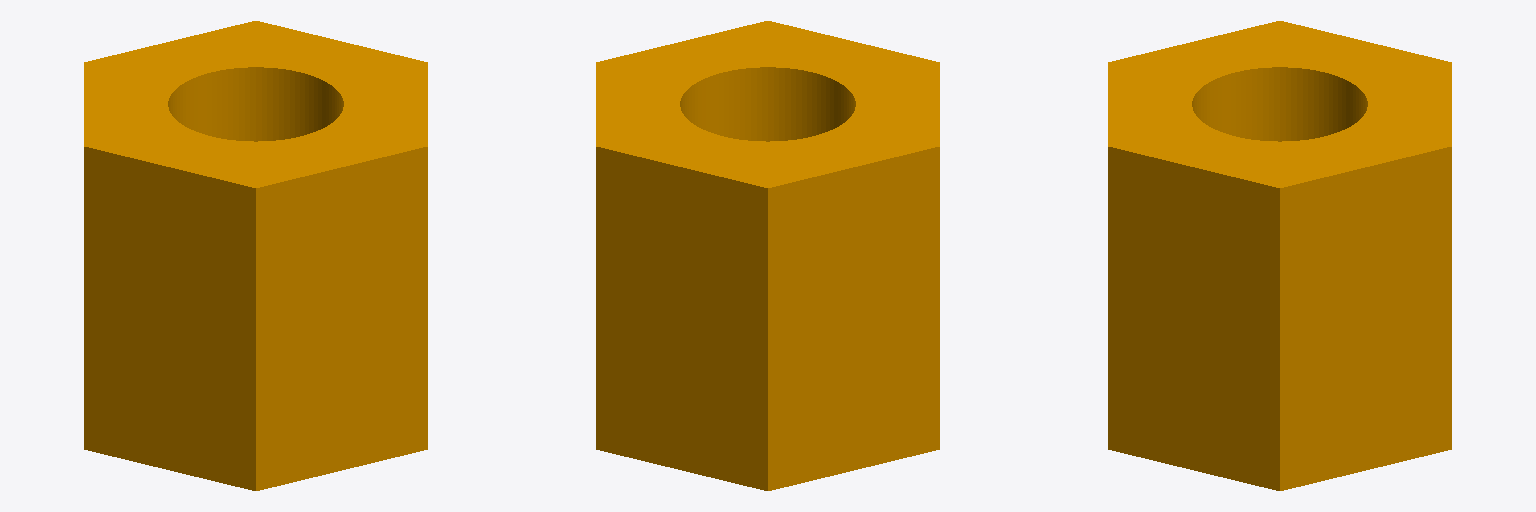
robot.urdf — coarse_long_hex_nut:
<?xml version='1.0' encoding='utf-8'?>
<robot name="coarse_long_hex_nut">
  <link name="body">
    <inertial>
      <origin xyz="-5.171136142987504e-19 7.9848737146478825e-19 0.03961034318940349" />
      <mass value="0.25" />
      <inertia ixx="0.0002773584008785629" iyy="0.00027735840087856283" izz="0.0002873818134457217" ixy="-5.4551818227790585e-21" ixz="1.5905210369773787e-20" iyz="9.686641064724586e-08" />
    </inertial>
    <collision>
      <geometry>
        <mesh filename="part_00.obj" />
      </geometry>
    </collision>
    <collision>
      <geometry>
        <mesh filename="part_01.obj" />
      </geometry>
    </collision>
    <collision>
      <geometry>
        <mesh filename="part_02.obj" />
      </geometry>
    </collision>
    <collision>
      <geometry>
        <mesh filename="part_03.obj" />
      </geometry>
    </collision>
    <collision>
      <geometry>
        <mesh filename="part_04.obj" />
      </geometry>
    </collision>
    <collision>
      <geometry>
        <mesh filename="part_05.obj" />
      </geometry>
    </collision>
    <collision>
      <geometry>
        <mesh filename="part_06.obj" />
      </geometry>
    </collision>
    <collision>
      <geometry>
        <mesh filename="part_07.obj" />
      </geometry>
    </collision>
    <collision>
      <geometry>
        <mesh filename="part_08.obj" />
      </geometry>
    </collision>
    <collision>
      <geometry>
        <mesh filename="part_09.obj" />
      </geometry>
    </collision>
    <collision>
      <geometry>
        <mesh filename="part_10.obj" />
      </geometry>
    </collision>
    <collision>
      <geometry>
        <mesh filename="part_11.obj" />
      </geometry>
    </collision>
    <collision>
      <geometry>
        <mesh filename="part_12.obj" />
      </geometry>
    </collision>
    <collision>
      <geometry>
        <mesh filename="part_13.obj" />
      </geometry>
    </collision>
    <collision>
      <geometry>
        <mesh filename="part_14.obj" />
      </geometry>
    </collision>
    <collision>
      <geometry>
        <mesh filename="part_15.obj" />
      </geometry>
    </collision>
    <collision>
      <geometry>
        <mesh filename="part_16.obj" />
      </geometry>
    </collision>
    <collision>
      <geometry>
        <mesh filename="part_17.obj" />
      </geometry>
    </collision>
    <collision>
      <geometry>
        <mesh filename="part_18.obj" />
      </geometry>
    </collision>
    <collision>
      <geometry>
        <mesh filename="part_19.obj" />
      </geometry>
    </collision>
    <collision>
      <geometry>
        <mesh filename="part_20.obj" />
      </geometry>
    </collision>
    <collision>
      <geometry>
        <mesh filename="part_21.obj" />
      </geometry>
    </collision>
    <collision>
      <geometry>
        <mesh filename="part_22.obj" />
      </geometry>
    </collision>
    <collision>
      <geometry>
        <mesh filename="part_23.obj" />
      </geometry>
    </collision>
    <collision>
      <geometry>
        <mesh filename="part_24.obj" />
      </geometry>
    </collision>
    <collision>
      <geometry>
        <mesh filename="part_25.obj" />
      </geometry>
    </collision>
    <collision>
      <geometry>
        <mesh filename="part_26.obj" />
      </geometry>
    </collision>
    <collision>
      <geometry>
        <mesh filename="part_27.obj" />
      </geometry>
    </collision>
    <collision>
      <geometry>
        <mesh filename="part_28.obj" />
      </geometry>
    </collision>
    <collision>
      <geometry>
        <mesh filename="part_29.obj" />
      </geometry>
    </collision>
    <collision>
      <geometry>
        <mesh filename="part_30.obj" />
      </geometry>
    </collision>
    <collision>
      <geometry>
        <mesh filename="part_31.obj" />
      </geometry>
    </collision>
    <collision>
      <geometry>
        <mesh filename="part_32.obj" />
      </geometry>
    </collision>
    <collision>
      <geometry>
        <mesh filename="part_33.obj" />
      </geometry>
    </collision>
    <collision>
      <geometry>
        <mesh filename="part_34.obj" />
      </geometry>
    </collision>
    <collision>
      <geometry>
        <mesh filename="part_35.obj" />
      </geometry>
    </collision>
    <collision>
      <geometry>
        <mesh filename="part_36.obj" />
      </geometry>
    </collision>
    <collision>
      <geometry>
        <mesh filename="part_37.obj" />
      </geometry>
    </collision>
    <collision>
      <geometry>
        <mesh filename="part_38.obj" />
      </geometry>
    </collision>
    <collision>
      <geometry>
        <mesh filename="part_39.obj" />
      </geometry>
    </collision>
    <collision>
      <geometry>
        <mesh filename="part_40.obj" />
      </geometry>
    </collision>
    <collision>
      <geometry>
        <mesh filename="part_41.obj" />
      </geometry>
    </collision>
    <collision>
      <geometry>
        <mesh filename="part_42.obj" />
      </geometry>
    </collision>
    <collision>
      <geometry>
        <mesh filename="part_43.obj" />
      </geometry>
    </collision>
    <collision>
      <geometry>
        <mesh filename="part_44.obj" />
      </geometry>
    </collision>
    <collision>
      <geometry>
        <mesh filename="part_45.obj" />
      </geometry>
    </collision>
    <collision>
      <geometry>
        <mesh filename="part_46.obj" />
      </geometry>
    </collision>
    <collision>
      <geometry>
        <mesh filename="part_47.obj" />
      </geometry>
    </collision>
    <collision>
      <geometry>
        <mesh filename="part_48.obj" />
      </geometry>
    </collision>
    <collision>
      <geometry>
        <mesh filename="part_49.obj" />
      </geometry>
    </collision>
    <collision>
      <geometry>
        <mesh filename="part_50.obj" />
      </geometry>
    </collision>
    <collision>
      <geometry>
        <mesh filename="part_51.obj" />
      </geometry>
    </collision>
    <collision>
      <geometry>
        <mesh filename="part_52.obj" />
      </geometry>
    </collision>
    <collision>
      <geometry>
        <mesh filename="part_53.obj" />
      </geometry>
    </collision>
    <collision>
      <geometry>
        <mesh filename="part_54.obj" />
      </geometry>
    </collision>
    <collision>
      <geometry>
        <mesh filename="part_55.obj" />
      </geometry>
    </collision>
    <collision>
      <geometry>
        <mesh filename="part_56.obj" />
      </geometry>
    </collision>
    <collision>
      <geometry>
        <mesh filename="part_57.obj" />
      </geometry>
    </collision>
    <collision>
      <geometry>
        <mesh filename="part_58.obj" />
      </geometry>
    </collision>
    <collision>
      <geometry>
        <mesh filename="part_59.obj" />
      </geometry>
    </collision>
    <collision>
      <geometry>
        <mesh filename="part_60.obj" />
      </geometry>
    </collision>
    <collision>
      <geometry>
        <mesh filename="part_61.obj" />
      </geometry>
    </collision>
    <collision>
      <geometry>
        <mesh filename="part_62.obj" />
      </geometry>
    </collision>
    <collision>
      <geometry>
        <mesh filename="part_63.obj" />
      </geometry>
    </collision>
    <collision>
      <geometry>
        <mesh filename="part_64.obj" />
      </geometry>
    </collision>
    <collision>
      <geometry>
        <mesh filename="part_65.obj" />
      </geometry>
    </collision>
    <collision>
      <geometry>
        <mesh filename="part_66.obj" />
      </geometry>
    </collision>
    <collision>
      <geometry>
        <mesh filename="part_67.obj" />
      </geometry>
    </collision>
    <collision>
      <geometry>
        <mesh filename="part_68.obj" />
      </geometry>
    </collision>
    <collision>
      <geometry>
        <mesh filename="part_69.obj" />
      </geometry>
    </collision>
    <collision>
      <geometry>
        <mesh filename="part_70.obj" />
      </geometry>
    </collision>
    <collision>
      <geometry>
        <mesh filename="part_71.obj" />
      </geometry>
    </collision>
    <collision>
      <geometry>
        <mesh filename="part_72.obj" />
      </geometry>
    </collision>
    <collision>
      <geometry>
        <mesh filename="part_73.obj" />
      </geometry>
    </collision>
    <collision>
      <geometry>
        <mesh filename="part_74.obj" />
      </geometry>
    </collision>
    <collision>
      <geometry>
        <mesh filename="part_75.obj" />
      </geometry>
    </collision>
    <collision>
      <geometry>
        <mesh filename="part_76.obj" />
      </geometry>
    </collision>
    <collision>
      <geometry>
        <mesh filename="part_77.obj" />
      </geometry>
    </collision>
    <collision>
      <geometry>
        <mesh filename="part_78.obj" />
      </geometry>
    </collision>
    <collision>
      <geometry>
        <mesh filename="part_79.obj" />
      </geometry>
    </collision>
    <collision>
      <geometry>
        <mesh filename="part_80.obj" />
      </geometry>
    </collision>
    <collision>
      <geometry>
        <mesh filename="part_81.obj" />
      </geometry>
    </collision>
    <collision>
      <geometry>
        <mesh filename="part_82.obj" />
      </geometry>
    </collision>
    <collision>
      <geometry>
        <mesh filename="part_83.obj" />
      </geometry>
    </collision>
    <collision>
      <geometry>
        <mesh filename="part_84.obj" />
      </geometry>
    </collision>
    <collision>
      <geometry>
        <mesh filename="part_85.obj" />
      </geometry>
    </collision>
    <collision>
      <geometry>
        <mesh filename="part_86.obj" />
      </geometry>
    </collision>
    <collision>
      <geometry>
        <mesh filename="part_87.obj" />
      </geometry>
    </collision>
    <collision>
      <geometry>
        <mesh filename="part_88.obj" />
      </geometry>
    </collision>
    <collision>
      <geometry>
        <mesh filename="part_89.obj" />
      </geometry>
    </collision>
    <collision>
      <geometry>
        <mesh filename="part_90.obj" />
      </geometry>
    </collision>
    <collision>
      <geometry>
        <mesh filename="part_91.obj" />
      </geometry>
    </collision>
    <collision>
      <geometry>
        <mesh filename="part_92.obj" />
      </geometry>
    </collision>
    <collision>
      <geometry>
        <mesh filename="part_93.obj" />
      </geometry>
    </collision>
    <collision>
      <geometry>
        <mesh filename="part_94.obj" />
      </geometry>
    </collision>
    <collision>
      <geometry>
        <mesh filename="part_95.obj" />
      </geometry>
    </collision>
    <collision>
      <geometry>
        <mesh filename="part_96.obj" />
      </geometry>
    </collision>
    <collision>
      <geometry>
        <mesh filename="part_97.obj" />
      </geometry>
    </collision>
    <collision>
      <geometry>
        <mesh filename="part_98.obj" />
      </geometry>
    </collision>
    <collision>
      <geometry>
        <mesh filename="part_99.obj" />
      </geometry>
    </collision>
    <collision>
      <geometry>
        <mesh filename="part_100.obj" />
      </geometry>
    </collision>
    <collision>
      <geometry>
        <mesh filename="part_101.obj" />
      </geometry>
    </collision>
    <collision>
      <geometry>
        <mesh filename="part_102.obj" />
      </geometry>
    </collision>
    <collision>
      <geometry>
        <mesh filename="part_103.obj" />
      </geometry>
    </collision>
    <collision>
      <geometry>
        <mesh filename="part_104.obj" />
      </geometry>
    </collision>
    <collision>
      <geometry>
        <mesh filename="part_105.obj" />
      </geometry>
    </collision>
    <collision>
      <geometry>
        <mesh filename="part_106.obj" />
      </geometry>
    </collision>
    <collision>
      <geometry>
        <mesh filename="part_107.obj" />
      </geometry>
    </collision>
    <collision>
      <geometry>
        <mesh filename="part_108.obj" />
      </geometry>
    </collision>
    <collision>
      <geometry>
        <mesh filename="part_109.obj" />
      </geometry>
    </collision>
    <collision>
      <geometry>
        <mesh filename="part_110.obj" />
      </geometry>
    </collision>
    <collision>
      <geometry>
        <mesh filename="part_111.obj" />
      </geometry>
    </collision>
    <collision>
      <geometry>
        <mesh filename="part_112.obj" />
      </geometry>
    </collision>
    <collision>
      <geometry>
        <mesh filename="part_113.obj" />
      </geometry>
    </collision>
    <collision>
      <geometry>
        <mesh filename="part_114.obj" />
      </geometry>
    </collision>
    <collision>
      <geometry>
        <mesh filename="part_115.obj" />
      </geometry>
    </collision>
    <collision>
      <geometry>
        <mesh filename="part_116.obj" />
      </geometry>
    </collision>
    <collision>
      <geometry>
        <mesh filename="part_117.obj" />
      </geometry>
    </collision>
    <collision>
      <geometry>
        <mesh filename="part_118.obj" />
      </geometry>
    </collision>
    <collision>
      <geometry>
        <mesh filename="part_119.obj" />
      </geometry>
    </collision>
    <collision>
      <geometry>
        <mesh filename="part_120.obj" />
      </geometry>
    </collision>
    <collision>
      <geometry>
        <mesh filename="part_121.obj" />
      </geometry>
    </collision>
    <collision>
      <geometry>
        <mesh filename="part_122.obj" />
      </geometry>
    </collision>
    <collision>
      <geometry>
        <mesh filename="part_123.obj" />
      </geometry>
    </collision>
    <collision>
      <geometry>
        <mesh filename="part_124.obj" />
      </geometry>
    </collision>
    <collision>
      <geometry>
        <mesh filename="part_125.obj" />
      </geometry>
    </collision>
    <collision>
      <geometry>
        <mesh filename="part_126.obj" />
      </geometry>
    </collision>
    <collision>
      <geometry>
        <mesh filename="part_127.obj" />
      </geometry>
    </collision>
    <collision>
      <geometry>
        <mesh filename="part_128.obj" />
      </geometry>
    </collision>
    <collision>
      <geometry>
        <mesh filename="part_129.obj" />
      </geometry>
    </collision>
    <collision>
      <geometry>
        <mesh filename="part_130.obj" />
      </geometry>
    </collision>
    <collision>
      <geometry>
        <mesh filename="part_131.obj" />
      </geometry>
    </collision>
    <collision>
      <geometry>
        <mesh filename="part_132.obj" />
      </geometry>
    </collision>
    <collision>
      <geometry>
        <mesh filename="part_133.obj" />
      </geometry>
    </collision>
    <collision>
      <geometry>
        <mesh filename="part_134.obj" />
      </geometry>
    </collision>
    <collision>
      <geometry>
        <mesh filename="part_135.obj" />
      </geometry>
    </collision>
    <collision>
      <geometry>
        <mesh filename="part_136.obj" />
      </geometry>
    </collision>
    <collision>
      <geometry>
        <mesh filename="part_137.obj" />
      </geometry>
    </collision>
    <collision>
      <geometry>
        <mesh filename="part_138.obj" />
      </geometry>
    </collision>
    <collision>
      <geometry>
        <mesh filename="part_139.obj" />
      </geometry>
    </collision>
    <collision>
      <geometry>
        <mesh filename="part_140.obj" />
      </geometry>
    </collision>
    <collision>
      <geometry>
        <mesh filename="part_141.obj" />
      </geometry>
    </collision>
    <collision>
      <geometry>
        <mesh filename="part_142.obj" />
      </geometry>
    </collision>
    <collision>
      <geometry>
        <mesh filename="part_143.obj" />
      </geometry>
    </collision>
    <collision>
      <geometry>
        <mesh filename="part_144.obj" />
      </geometry>
    </collision>
    <collision>
      <geometry>
        <mesh filename="part_145.obj" />
      </geometry>
    </collision>
    <collision>
      <geometry>
        <mesh filename="part_146.obj" />
      </geometry>
    </collision>
    <collision>
      <geometry>
        <mesh filename="part_147.obj" />
      </geometry>
    </collision>
    <collision>
      <geometry>
        <mesh filename="part_148.obj" />
      </geometry>
    </collision>
    <collision>
      <geometry>
        <mesh filename="part_149.obj" />
      </geometry>
    </collision>
    <collision>
      <geometry>
        <mesh filename="part_150.obj" />
      </geometry>
    </collision>
    <collision>
      <geometry>
        <mesh filename="part_151.obj" />
      </geometry>
    </collision>
    <collision>
      <geometry>
        <mesh filename="part_152.obj" />
      </geometry>
    </collision>
    <collision>
      <geometry>
        <mesh filename="part_153.obj" />
      </geometry>
    </collision>
    <collision>
      <geometry>
        <mesh filename="part_154.obj" />
      </geometry>
    </collision>
    <collision>
      <geometry>
        <mesh filename="part_155.obj" />
      </geometry>
    </collision>
    <collision>
      <geometry>
        <mesh filename="part_156.obj" />
      </geometry>
    </collision>
    <collision>
      <geometry>
        <mesh filename="part_157.obj" />
      </geometry>
    </collision>
    <collision>
      <geometry>
        <mesh filename="part_158.obj" />
      </geometry>
    </collision>
    <collision>
      <geometry>
        <mesh filename="part_159.obj" />
      </geometry>
    </collision>
    <collision>
      <geometry>
        <mesh filename="part_160.obj" />
      </geometry>
    </collision>
    <collision>
      <geometry>
        <mesh filename="part_161.obj" />
      </geometry>
    </collision>
    <collision>
      <geometry>
        <mesh filename="part_162.obj" />
      </geometry>
    </collision>
    <collision>
      <geometry>
        <mesh filename="part_163.obj" />
      </geometry>
    </collision>
    <collision>
      <geometry>
        <mesh filename="part_164.obj" />
      </geometry>
    </collision>
    <collision>
      <geometry>
        <mesh filename="part_165.obj" />
      </geometry>
    </collision>
    <collision>
      <geometry>
        <mesh filename="part_166.obj" />
      </geometry>
    </collision>
    <collision>
      <geometry>
        <mesh filename="part_167.obj" />
      </geometry>
    </collision>
    <collision>
      <geometry>
        <mesh filename="part_168.obj" />
      </geometry>
    </collision>
    <collision>
      <geometry>
        <mesh filename="part_169.obj" />
      </geometry>
    </collision>
    <collision>
      <geometry>
        <mesh filename="part_170.obj" />
      </geometry>
    </collision>
    <collision>
      <geometry>
        <mesh filename="part_171.obj" />
      </geometry>
    </collision>
    <collision>
      <geometry>
        <mesh filename="part_172.obj" />
      </geometry>
    </collision>
    <collision>
      <geometry>
        <mesh filename="part_173.obj" />
      </geometry>
    </collision>
    <collision>
      <geometry>
        <mesh filename="part_174.obj" />
      </geometry>
    </collision>
    <collision>
      <geometry>
        <mesh filename="part_175.obj" />
      </geometry>
    </collision>
    <collision>
      <geometry>
        <mesh filename="part_176.obj" />
      </geometry>
    </collision>
    <collision>
      <geometry>
        <mesh filename="part_177.obj" />
      </geometry>
    </collision>
    <collision>
      <geometry>
        <mesh filename="part_178.obj" />
      </geometry>
    </collision>
    <collision>
      <geometry>
        <mesh filename="part_179.obj" />
      </geometry>
    </collision>
    <collision>
      <geometry>
        <mesh filename="part_180.obj" />
      </geometry>
    </collision>
    <collision>
      <geometry>
        <mesh filename="part_181.obj" />
      </geometry>
    </collision>
    <collision>
      <geometry>
        <mesh filename="part_182.obj" />
      </geometry>
    </collision>
    <collision>
      <geometry>
        <mesh filename="part_183.obj" />
      </geometry>
    </collision>
    <collision>
      <geometry>
        <mesh filename="part_184.obj" />
      </geometry>
    </collision>
    <collision>
      <geometry>
        <mesh filename="part_185.obj" />
      </geometry>
    </collision>
    <collision>
      <geometry>
        <mesh filename="part_186.obj" />
      </geometry>
    </collision>
    <collision>
      <geometry>
        <mesh filename="part_187.obj" />
      </geometry>
    </collision>
    <collision>
      <geometry>
        <mesh filename="part_188.obj" />
      </geometry>
    </collision>
    <collision>
      <geometry>
        <mesh filename="part_189.obj" />
      </geometry>
    </collision>
    <collision>
      <geometry>
        <mesh filename="part_190.obj" />
      </geometry>
    </collision>
    <collision>
      <geometry>
        <mesh filename="part_191.obj" />
      </geometry>
    </collision>
    <collision>
      <geometry>
        <mesh filename="part_192.obj" />
      </geometry>
    </collision>
    <collision>
      <geometry>
        <mesh filename="part_193.obj" />
      </geometry>
    </collision>
    <collision>
      <geometry>
        <mesh filename="part_194.obj" />
      </geometry>
    </collision>
    <collision>
      <geometry>
        <mesh filename="part_195.obj" />
      </geometry>
    </collision>
    <collision>
      <geometry>
        <mesh filename="part_196.obj" />
      </geometry>
    </collision>
    <collision>
      <geometry>
        <mesh filename="part_197.obj" />
      </geometry>
    </collision>
    <visual>
      <geometry>
        <mesh filename="visual.obj" />
      </geometry>
    </visual>
  </link>
</robot>

--- Render facts (derived) ---
Views: 3 orthographic renders of the robot side by side, from view 1: azimuth 30°, elevation 25°; view 2: azimuth 150°, elevation 25°; view 3: azimuth 270°, elevation 25°.
Model coarse_long_hex_nut with 1 links and 0 joints (none), rooted at body, posed all joints at 0.
Visible links, largest first — view 1: body; view 2: body; view 3: body.
Boxes of the visible links, box(x1,y1,x2,y2) form: body: box(84, 21, 427, 490); body: box(596, 21, 939, 490); body: box(1108, 21, 1451, 490).
Bounding box of the posed robot: 0.095 × 0.0823 × 0.08 m (x, y, z).
Meshes: 1 distinct files referenced, 1 mesh visuals loaded (1 OBJ).
